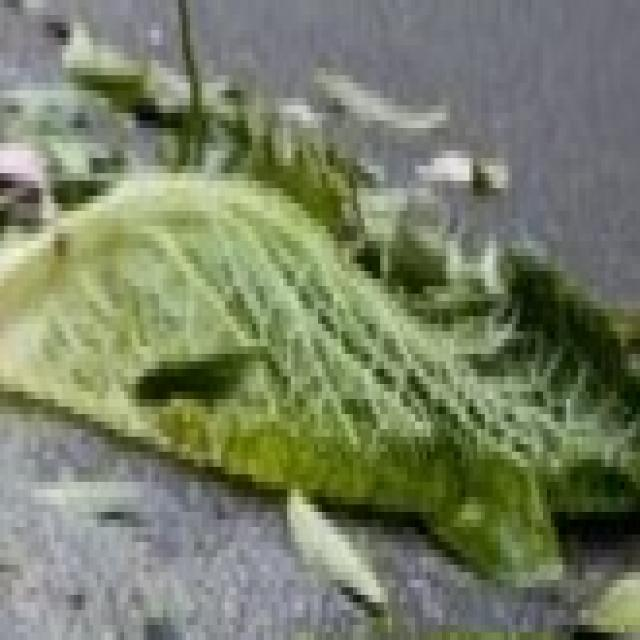food waste: (9, 0, 640, 608)
